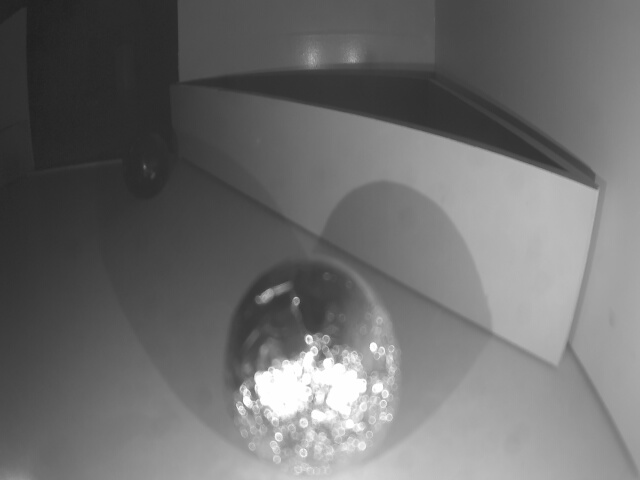Dead: (122, 132, 167, 196)
Live: (234, 265, 398, 480)
Red: (168, 83, 600, 363)
